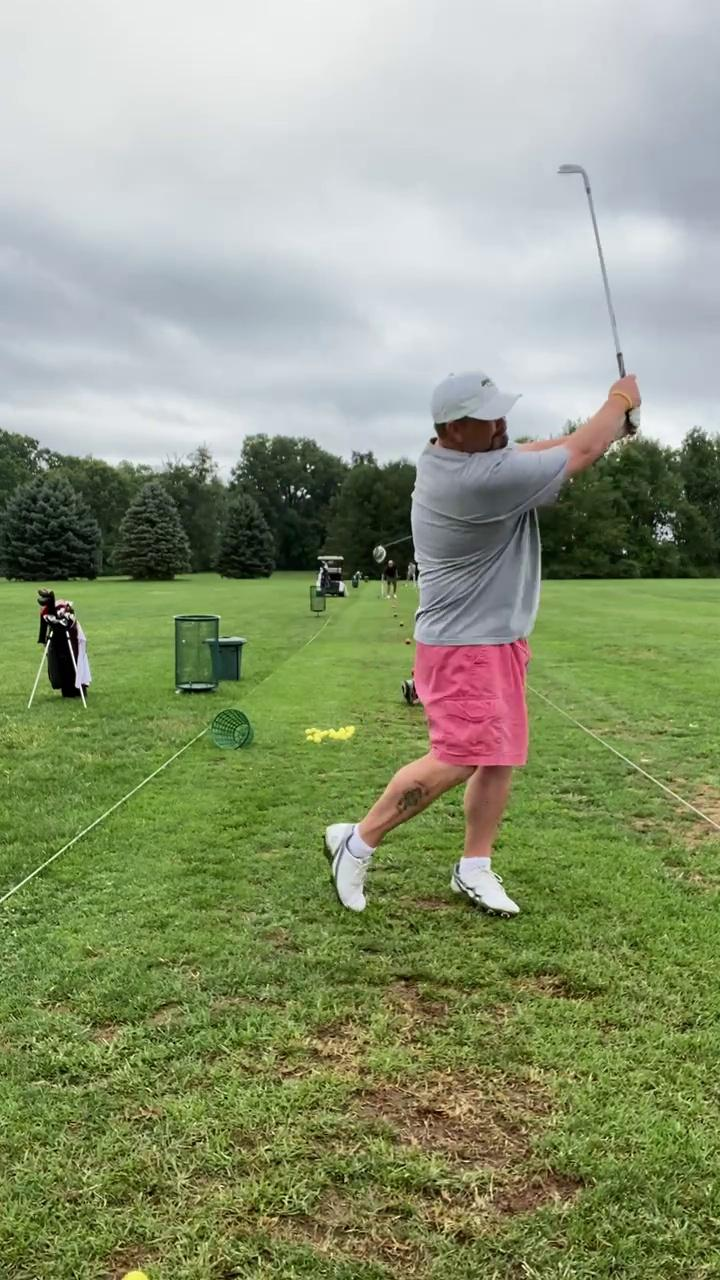ClubHead: (551, 149, 595, 202)
